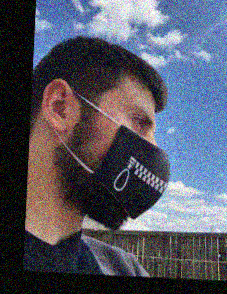with_mask: (80, 98, 171, 224)
